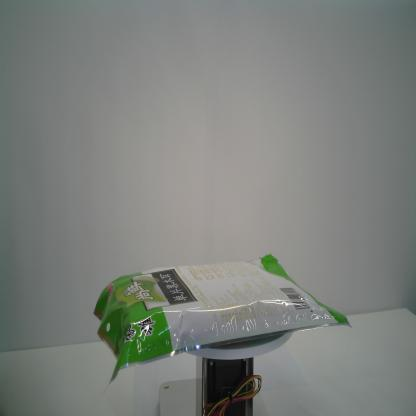Dried Food: (93, 252, 353, 396)
